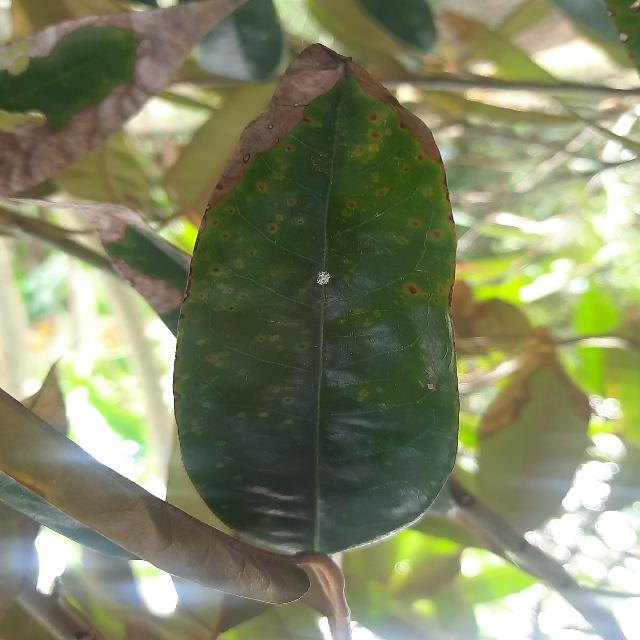Leaf Spot: (174, 39, 469, 575)
